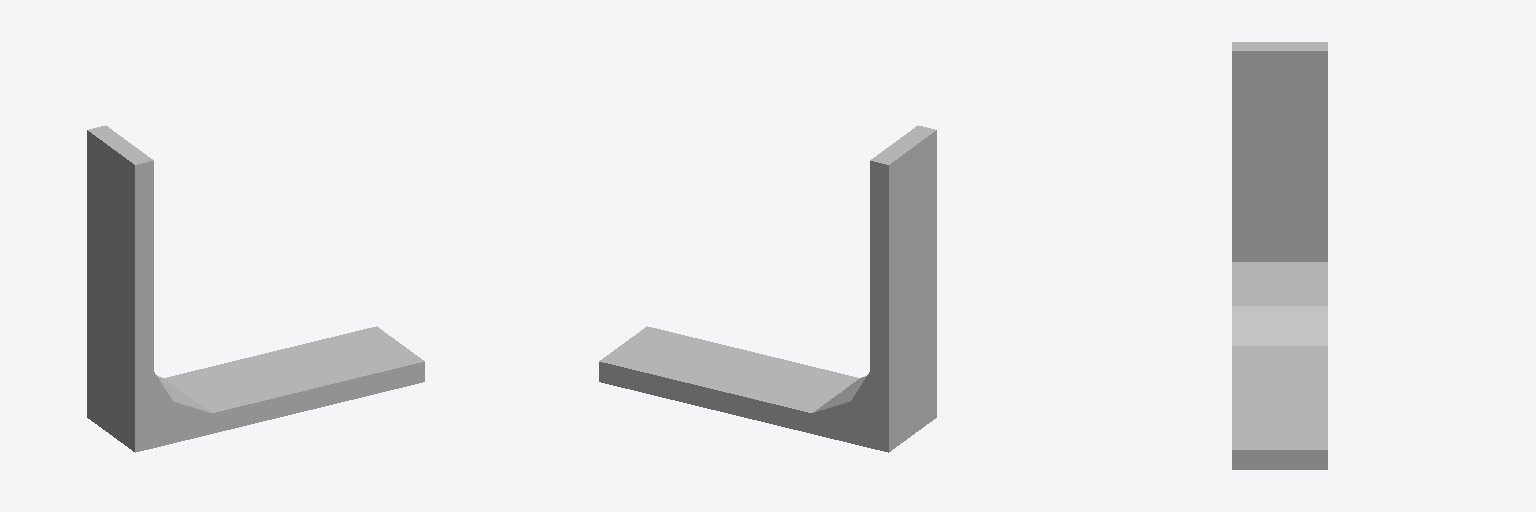
The model's file is frizzen.obj.
3 views of the same model, side by side, from view 1: azimuth 30°, elevation 25°; view 2: azimuth 150°, elevation 25°; view 3: azimuth 270°, elevation 25° (orthographic).
Visible parts, largest first — view 1: Cube; view 2: Cube; view 3: Cube.
Boxes of the visible parts, x1=… form: Cube: x1=87, y1=125, x2=424, y2=452; Cube: x1=599, y1=125, x2=936, y2=452; Cube: x1=1232, y1=42, x2=1327, y2=469.
Bounding box in the file's own units: 0.4861 × 0.4611 × 0.1398.